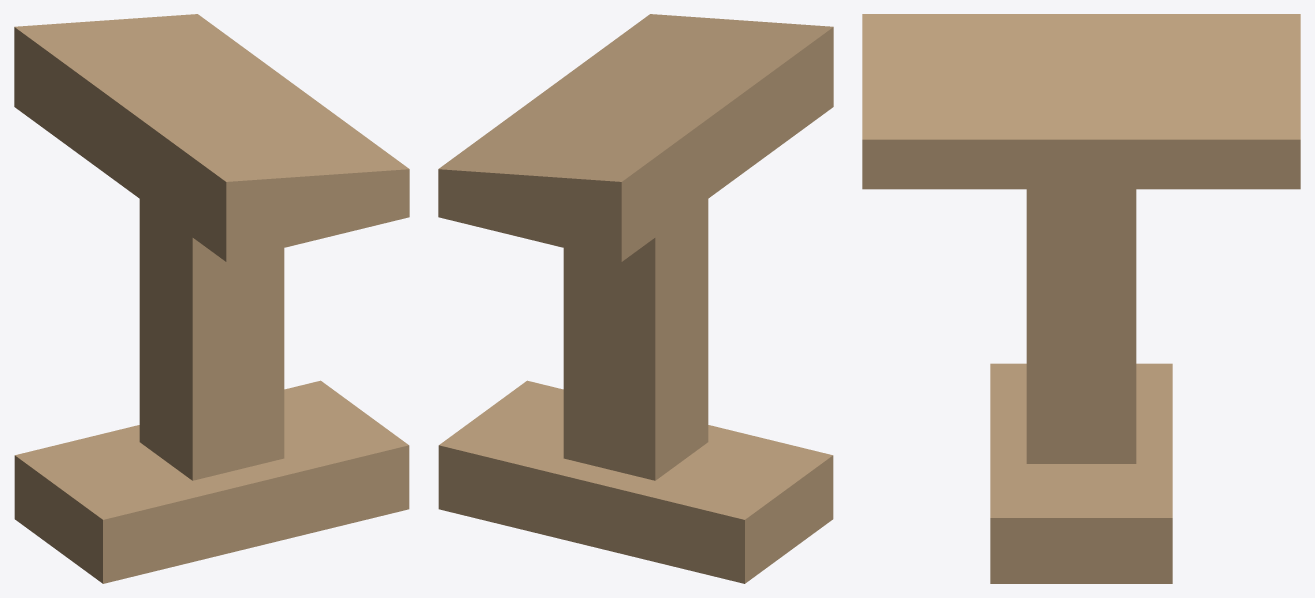
File: prop-tool-rest-blank-gs1.fbx
3 renders of one model, left to right at view 1: azimuth 30°, elevation 25°; view 2: azimuth 150°, elevation 25°; view 3: azimuth 270°, elevation 25°, orthographic. The views are drawn at different scales.
Visible parts, largest first — view 1: prop-tool-rest-blank-gs1; view 2: prop-tool-rest-blank-gs1; view 3: prop-tool-rest-blank-gs1.
Part boxes in pixels (x1,y1,x2,y2): prop-tool-rest-blank-gs1: (14,14,409,583); prop-tool-rest-blank-gs1: (438,14,833,583); prop-tool-rest-blank-gs1: (862,14,1300,583).
Size of the model in its own units: 20 by 27 by 24.
